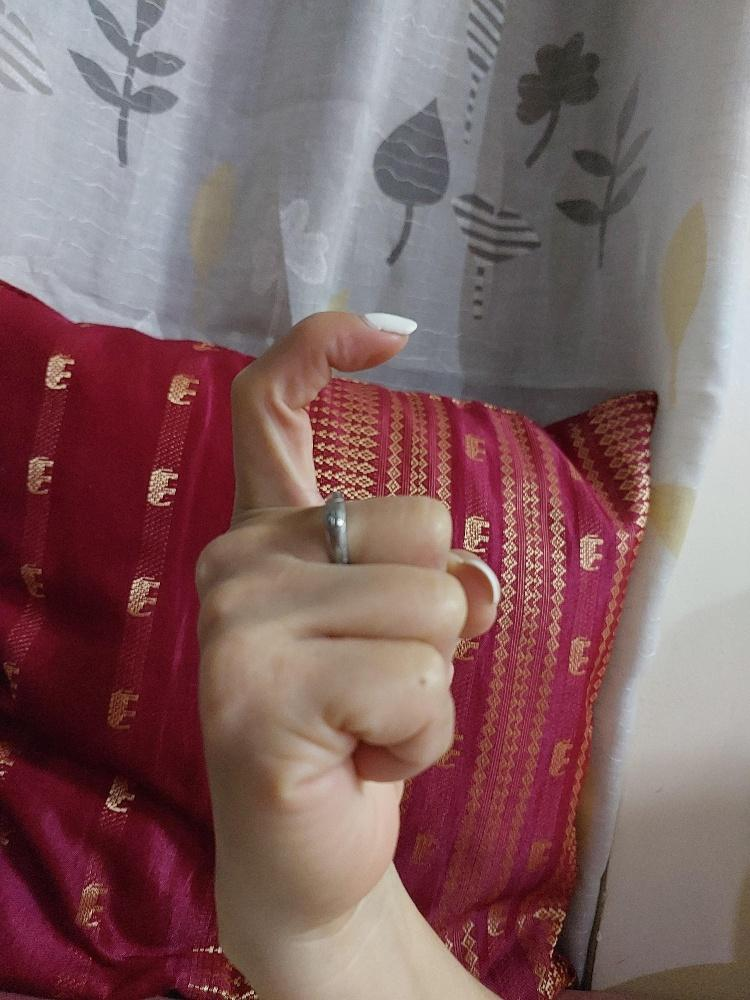x: (194, 303, 503, 925)
